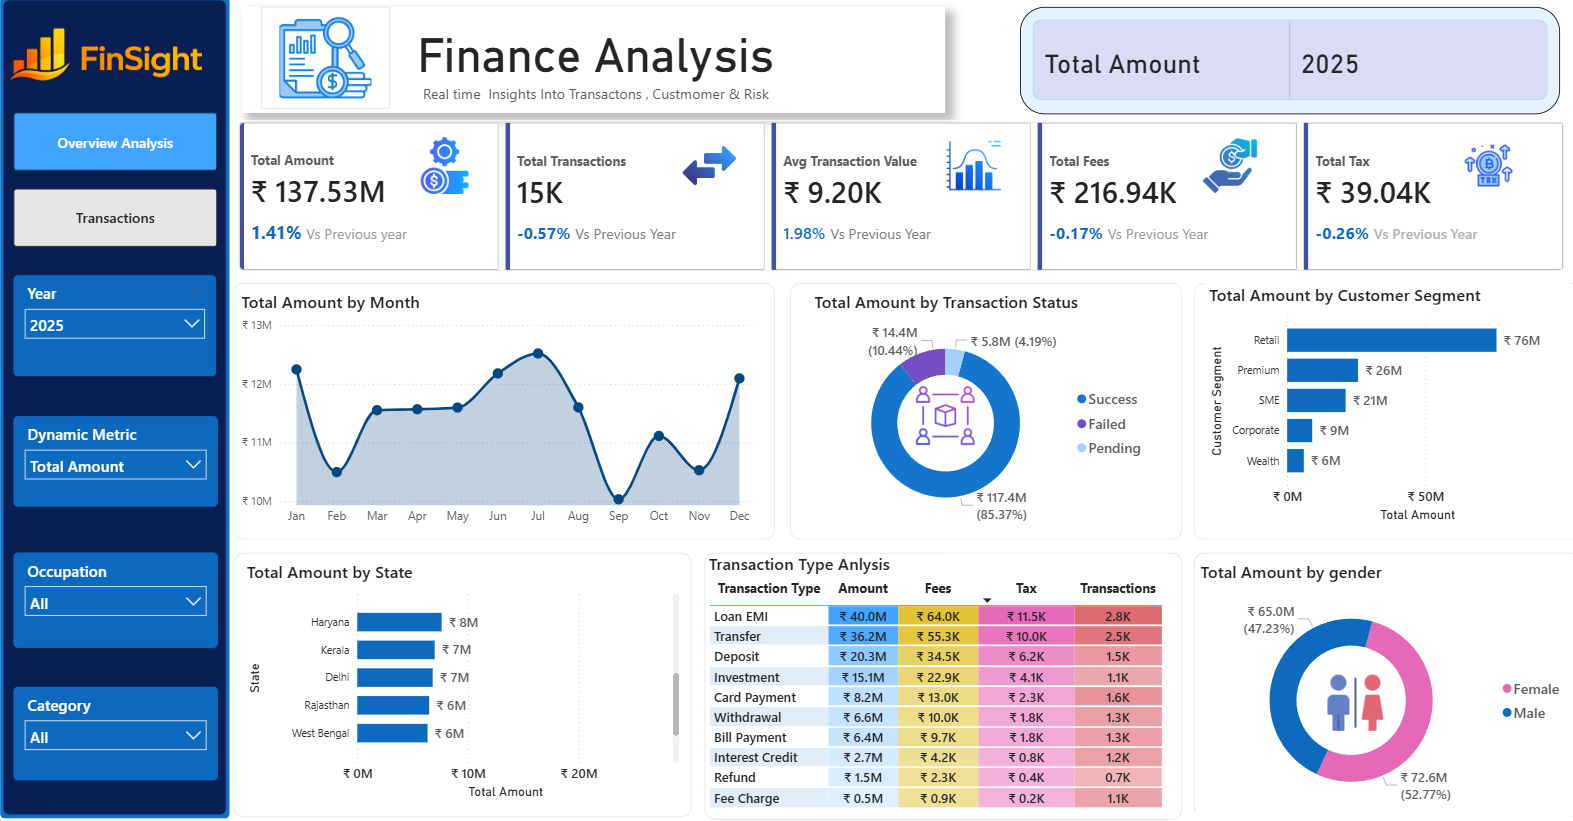

The dashboard page shown, as its layout file describes it:
{"tool":"powerbi","page":{"name":"Overview Analysis","canvas":[1800,950],"ordinal":0},"visuals":[{"type":"shape","box":[3.7,0,260,931.6],"z":0},{"type":"image","box":[0,11.2,252.1,108.6],"z":2000},{"type":"card","fields":{"Values":["finance_transactions.Dashboard title"]},"box":[278.3,11.2,797.5,119.8],"z":3000},{"type":"slicer","fields":{"Values":["Calendar Table.Year"]},"box":[18.7,316.2,230.1,114.1],"z":4000},{"type":"cardVisual","fields":{"Data":["finance_transactions.Total Amount","finance_transactions.Total Transactions","finance_transactions.Avg Transaction Value","finance_transactions.Total Fees","finance_transactions.Total Tax"]},"box":[267.1,140.3,1518.7,173.6],"z":5000},{"type":"image","box":[469.6,153.4,76.7,74.8],"z":6000},{"type":"image","box":[765.1,153.4,86.1,74.8],"z":7000},{"type":"image","box":[1070.1,153.4,76.7,74.8],"z":8000},{"type":"image","box":[1360,153.4,76.7,74.8],"z":9000},{"type":"image","box":[1653.8,153.4,76.7,74.8],"z":10000},{"type":"shape","box":[268.5,324.6,614.4,291.2],"z":11000},{"type":"areaChart","fields":{"Y":["finance_transactions.Total Amount"],"Category":["Calendar Table.Month"]},"box":[272.5,332.6,593.1,275.2],"z":12000},{"type":"cardVisual","fields":{"Data":["finance_transactions.Selected Dynamic Metric","finance_transactions.Selected Year"]},"box":[1160.8,10.7,613.1,121.6],"z":13000},{"type":"shape","box":[900.3,324.6,444.8,291.2],"z":14000},{"type":"donutChart","fields":{"Y":["finance_transactions.Total Amount"],"Category":["finance_transactions.transaction_status"]},"box":[921.7,332.6,390,275.2],"z":15000},{"type":"shape","box":[1358.4,324.6,440.8,291.2],"z":16000},{"type":"barChart","fields":{"Y":["finance_transactions.Total Amount"],"Category":["customers.customer_segment"]},"box":[1370.5,324.6,415.4,275.2],"z":17000},{"type":"shape","box":[268.5,630.5,519.6,300.5],"z":18000},{"type":"barChart","fields":{"Y":["finance_transactions.Total Amount"],"Category":["customers.state"]},"box":[277.8,638.5,500.9,275.2],"z":19000},{"type":"shape","box":[802.8,630.5,542.3,303.2],"z":20000},{"type":"tableEx","title":"Transaction Type Anlysis","fields":{"Values":["finance_transactions.transaction_type","finance_transactions.Total Amount","finance_transactions.Total Fees","finance_transactions.Total Tax","finance_transactions.Total Transactions"]},"box":[802.5,630.2,541.6,303.3],"z":21000},{"type":"shape","box":[1358.4,630.5,440.8,300.5],"z":22000},{"type":"donutChart","fields":{"Y":["finance_transactions.Total Amount"],"Category":["customers.gender"]},"box":[1359.8,638.5,426.1,292.5],"z":23000},{"type":"image","box":[1034.5,428.4,82.3,93.5],"z":24000},{"type":"image","box":[1477.9,759.2,127.2,82.9],"z":25000},{"type":"slicer","fields":{"Values":["Dynamic Metric.Dynamic Metric"]},"box":[18.7,475.2,232,102.9],"z":26000},{"type":"slicer","fields":{"Values":["customers.occupation"]},"box":[18.7,630.4,232,108.5],"z":27000},{"type":"slicer","fields":{"Values":["finance_transactions.merchant_category"]},"box":[18.7,782,232,106.6],"z":28000},{"type":"pageNavigator","box":[18.7,131,232,153.4],"z":29000},{"type":"image","box":[299.5,11.2,146,114.8],"z":30000}]}

Visuals, with their boxes in screenshot pixels (x1, y1, x2, y2), scaled from the page's 1800x950 canvas onto the 1573x821 screenshot:
shape: [3,0,230,805]
image: [0,10,220,104]
card - finance_transactions.Dashboard title: [243,10,940,113]
slicer - Calendar Table.Year: [16,273,217,372]
cardVisual - finance_transactions.Total Amount x finance_transactions.Total Transactions: [233,121,1561,271]
image: [410,133,477,197]
image: [669,133,744,197]
image: [935,133,1002,197]
image: [1188,133,1256,197]
image: [1445,133,1512,197]
shape: [235,281,772,532]
areaChart - finance_transactions.Total Amount x Calendar Table.Month: [238,287,756,525]
cardVisual - finance_transactions.Selected Dynamic Metric x finance_transactions.Selected Year: [1014,9,1550,114]
shape: [787,281,1175,532]
donutChart - finance_transactions.Total Amount x finance_transactions.transaction_status: [805,287,1146,525]
shape: [1187,281,1572,532]
barChart - finance_transactions.Total Amount x customers.customer_segment: [1198,281,1561,518]
shape: [235,545,689,805]
barChart - finance_transactions.Total Amount x customers.state: [243,552,680,790]
shape: [702,545,1175,807]
"Transaction Type Anlysis" tableEx: [701,545,1175,807]
shape: [1187,545,1572,805]
donutChart - finance_transactions.Total Amount x customers.gender: [1188,552,1561,805]
image: [904,370,976,451]
image: [1292,656,1403,728]
slicer - Dynamic Metric.Dynamic Metric: [16,411,219,500]
slicer - customers.occupation: [16,545,219,639]
slicer - finance_transactions.merchant_category: [16,676,219,768]
pageNavigator: [16,113,219,246]
image: [262,10,389,109]
